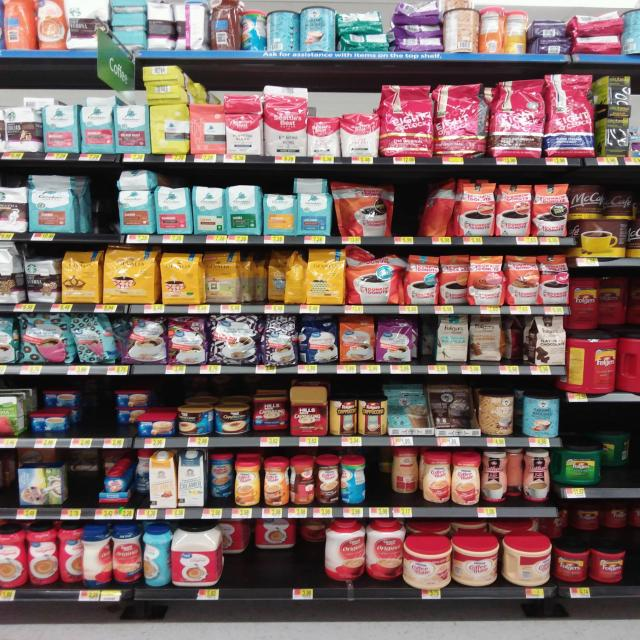void: (392, 173, 421, 248), (84, 168, 110, 250), (84, 378, 110, 451), (365, 445, 388, 522), (243, 249, 264, 315)
